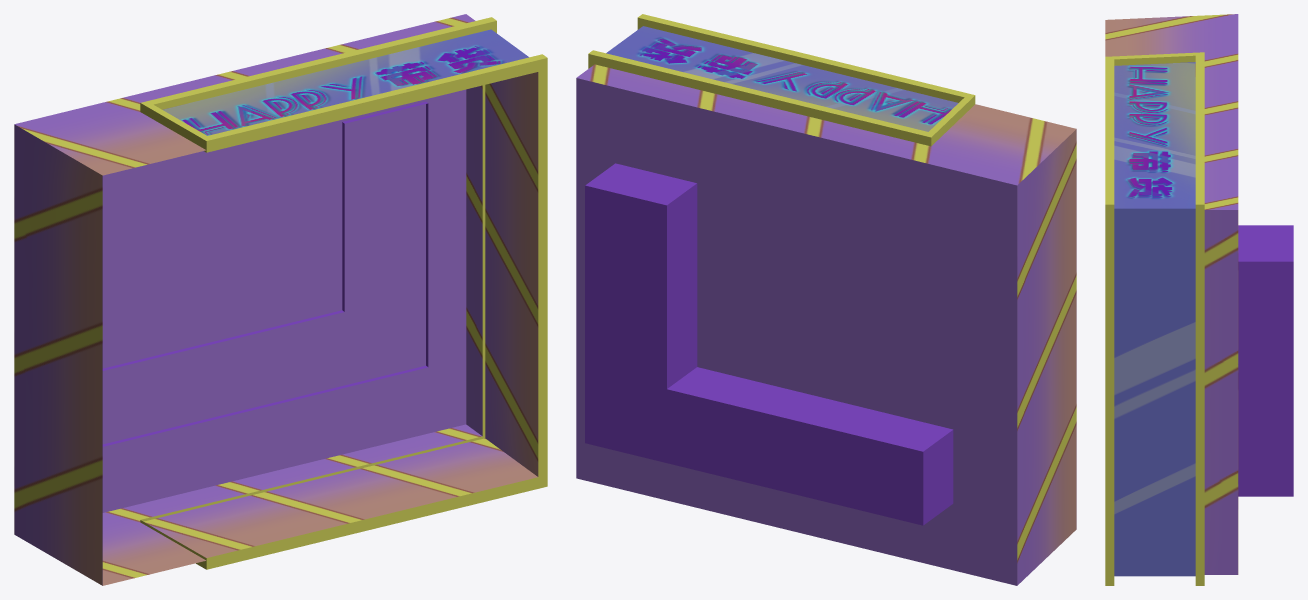
File: ZhuBo3_Mo.fbx
The picture shows the model from 3 angles, left to right: view 1: azimuth 30°, elevation 25°; view 2: azimuth 150°, elevation 25°; view 3: azimuth 270°, elevation 25°; orthographic projection. The views are drawn at different scales.
Visible parts, largest first — view 1: 对象006; view 2: 对象006; view 3: 对象006.
Part boxes in pixels (x1,y1,x2,y2): 对象006: [14, 14, 547, 585]; 对象006: [576, 14, 1076, 585]; 对象006: [1105, 14, 1293, 585].
Bounding box in the file's own units: 787 × 703 × 314.
1 material, 1 textured.
